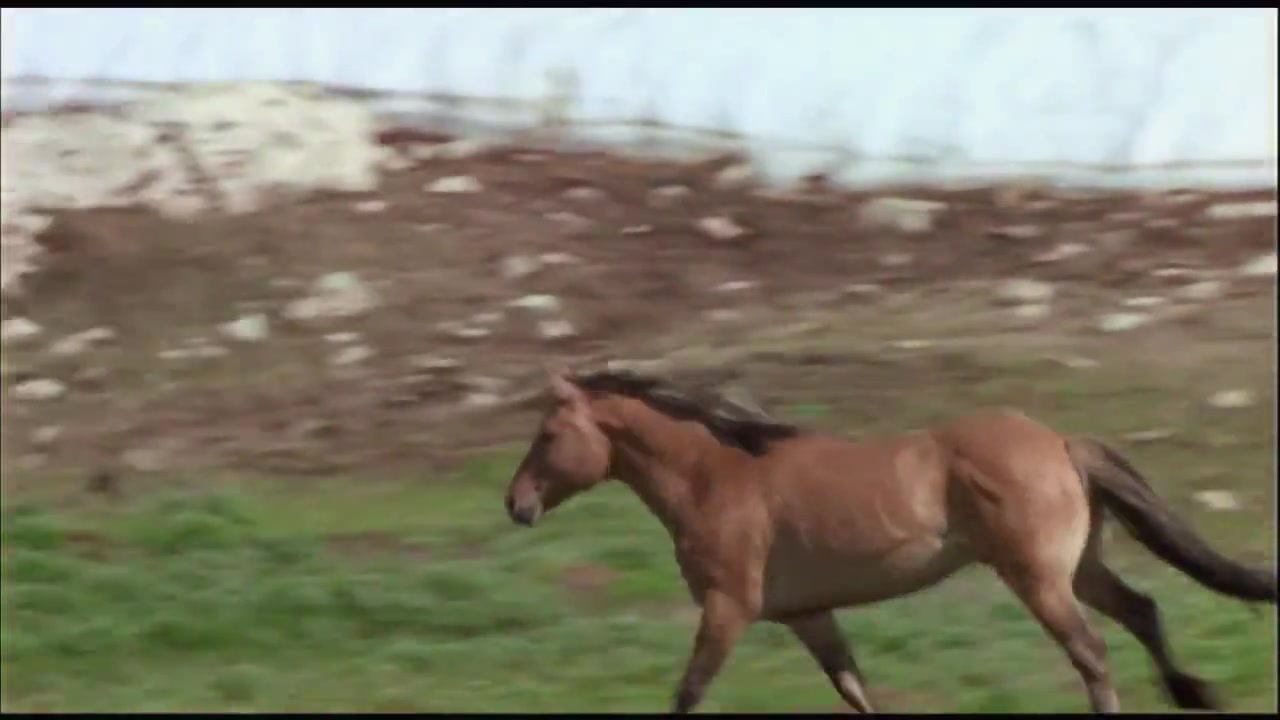horse: (504, 365, 1280, 716)
